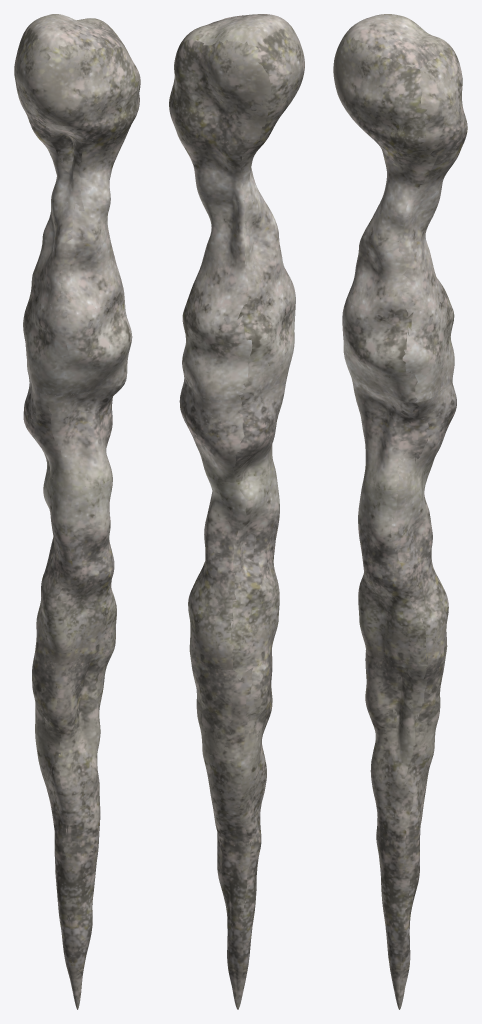
File: Stag5.fbx
The picture shows the model from 3 angles, left to right: view 1: azimuth 30°, elevation 25°; view 2: azimuth 150°, elevation 25°; view 3: azimuth 330°, elevation 25°; orthographic projection.
Parts seen in each view (by area): view 1: Cube.003; view 2: Cube.003; view 3: Cube.003.
Boxes of the visible parts, <box> form: Cube.003: <box>14,14,140,1009</box>; Cube.003: <box>169,14,304,1009</box>; Cube.003: <box>333,14,467,1009</box>.
Size of the model in its own units: 272 by 2173 by 242.
1 material, 1 textured.
